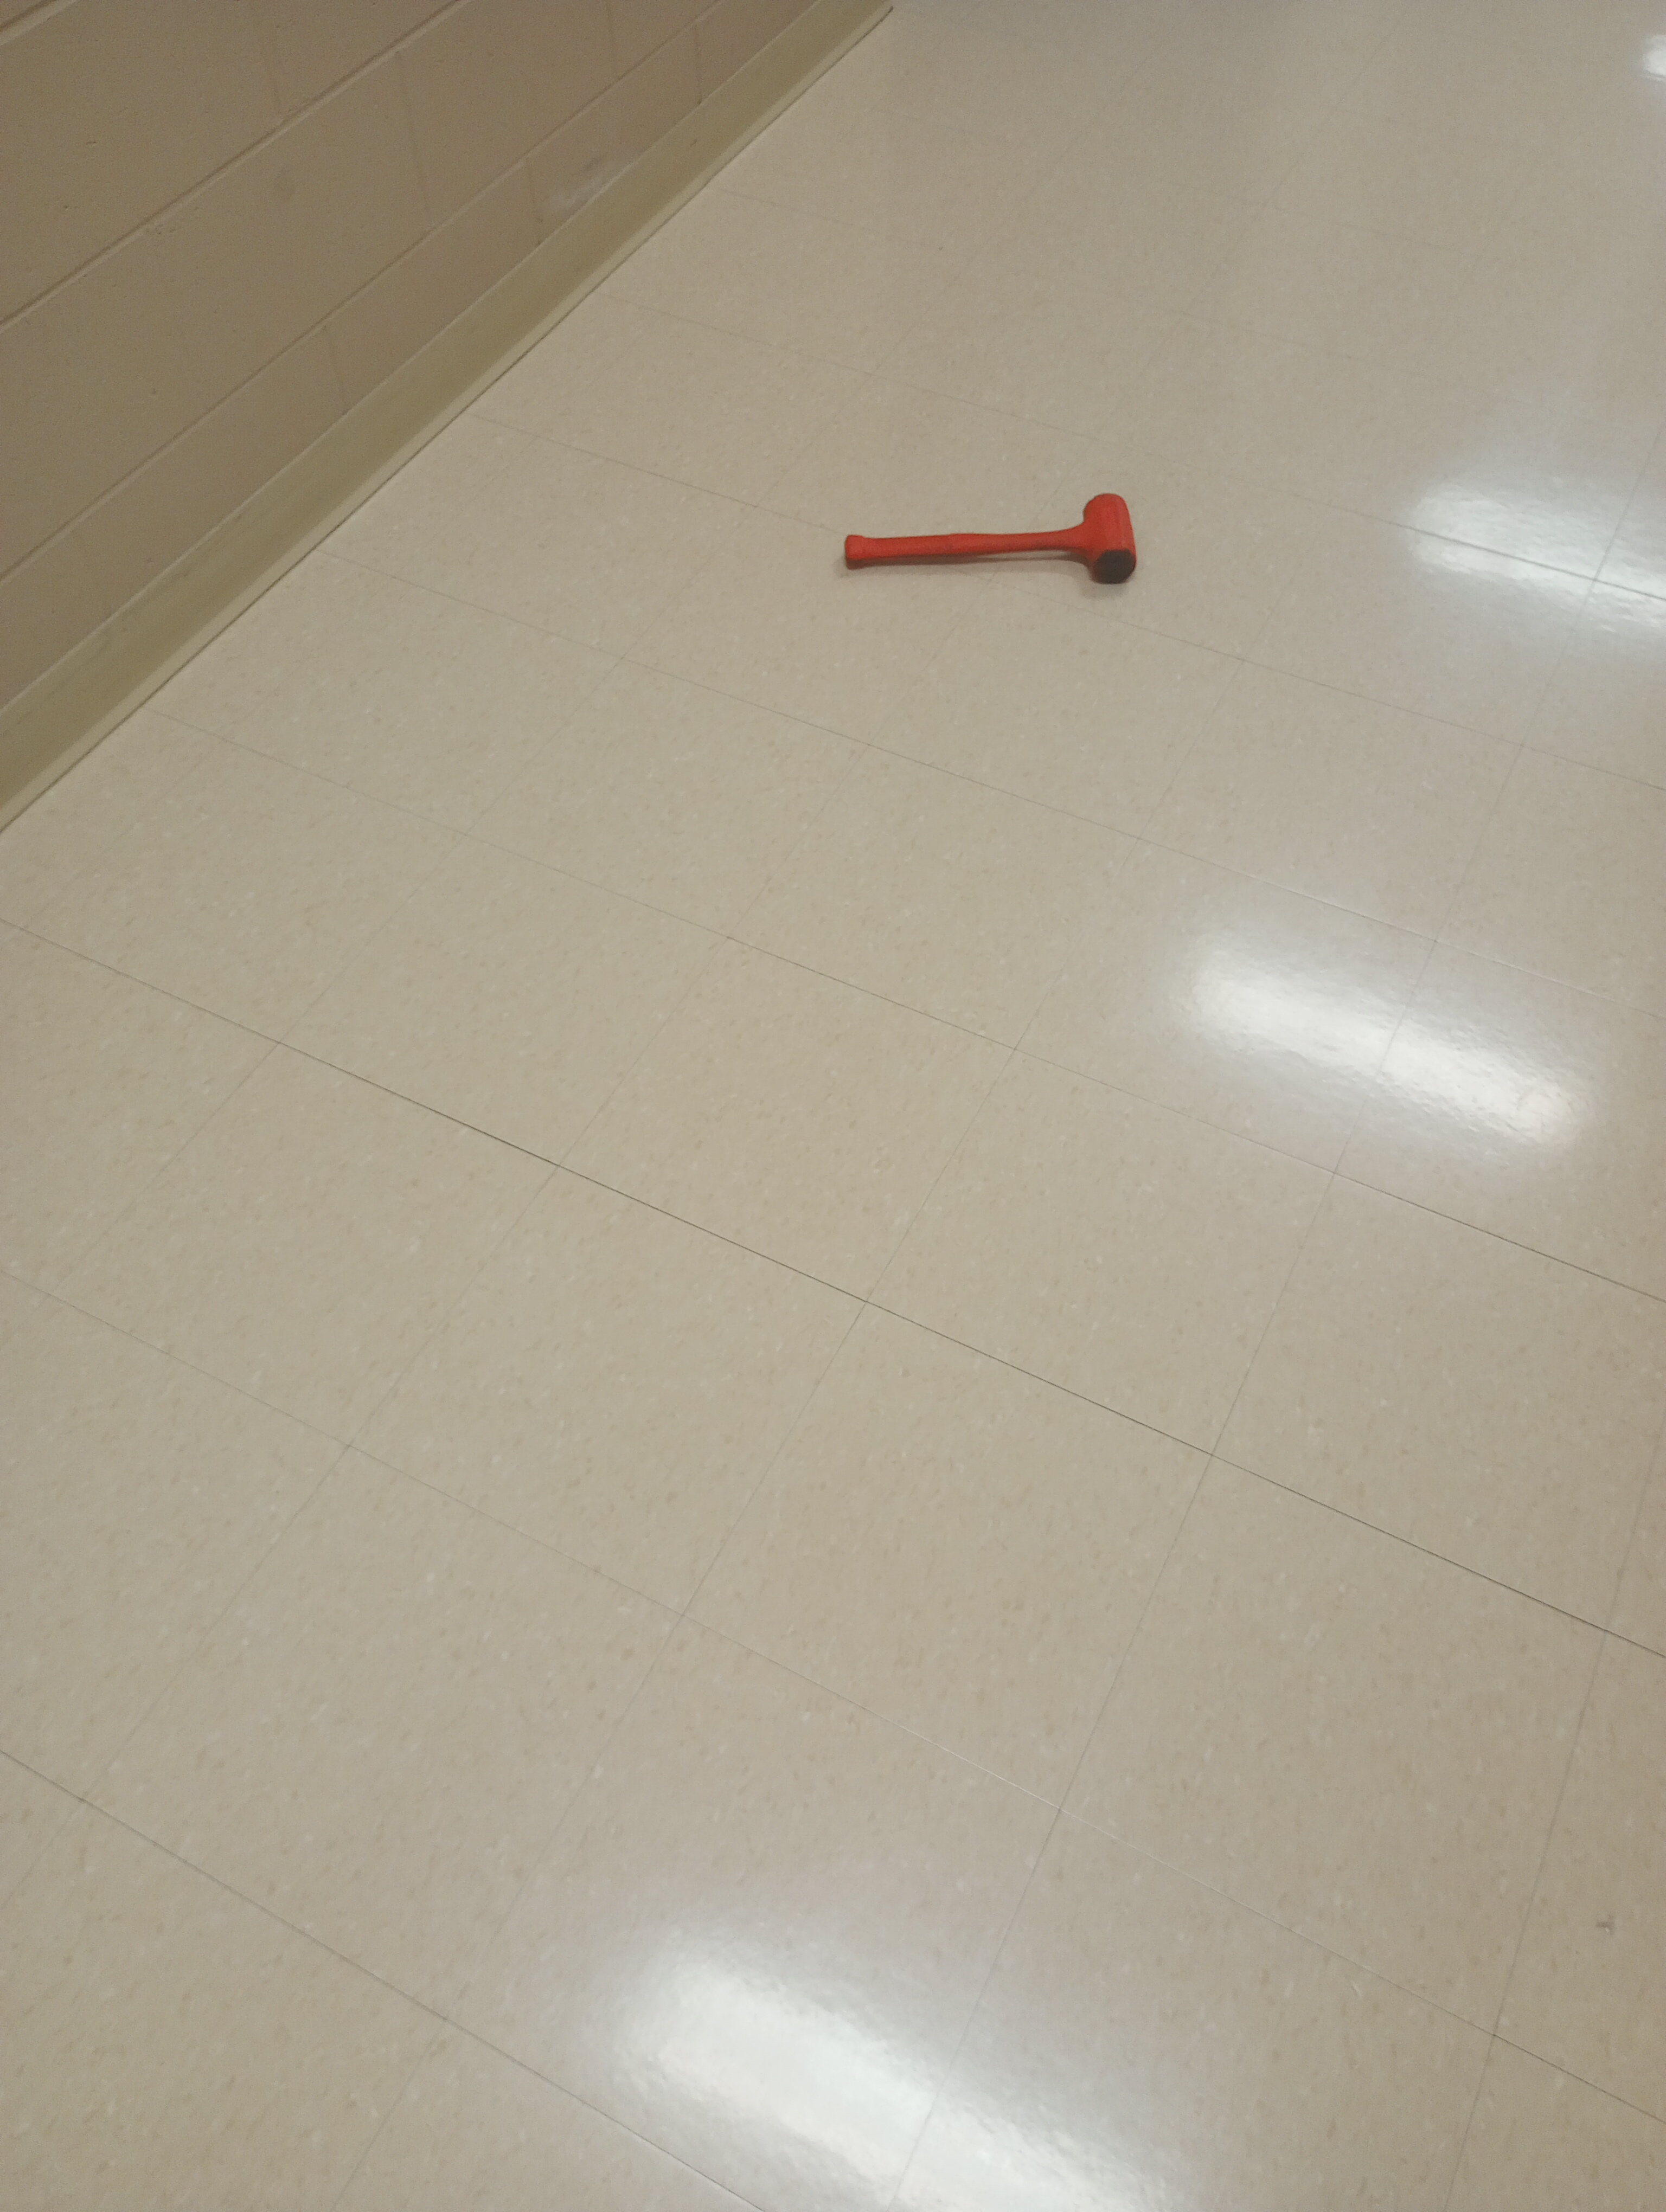bottle: (840, 486, 1138, 590)
